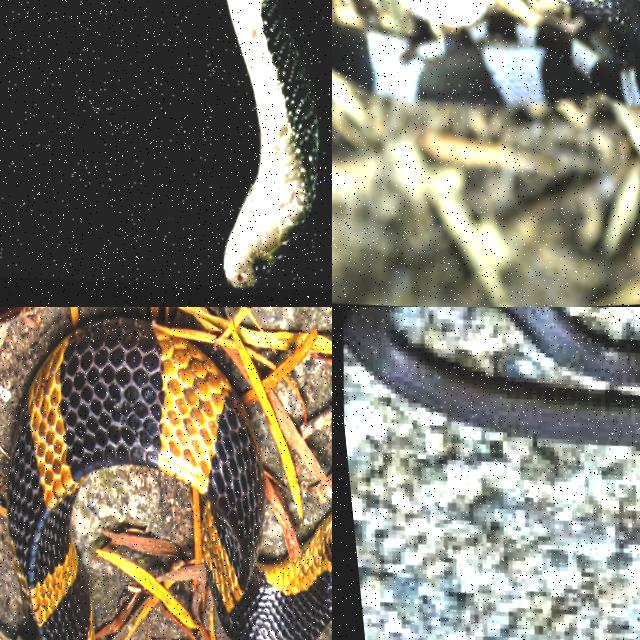Bungarus candidus: (332, 23, 639, 104)
Bungarus fasciatus: (7, 318, 331, 639)
Naja kaouthia: (343, 307, 639, 445)
Naja siamensis: (223, 0, 317, 285)
